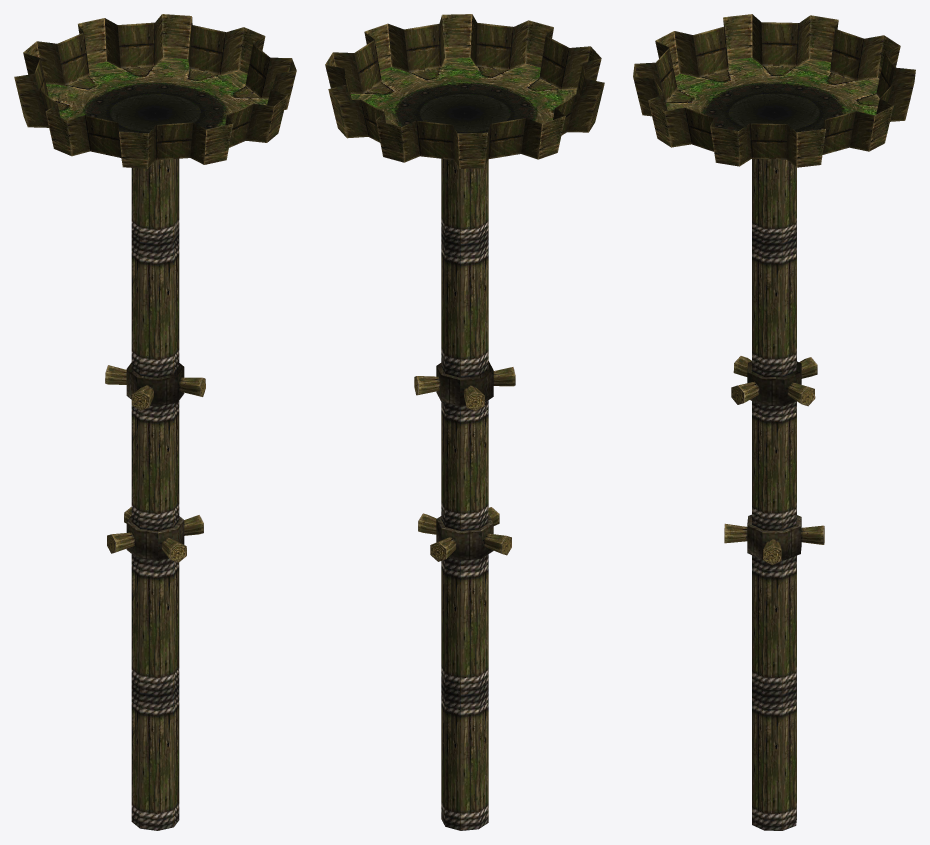
The model's file is shaft.dae.
The picture shows the model from 3 angles, left to right: view 1: azimuth 30°, elevation 25°; view 2: azimuth 150°, elevation 25°; view 3: azimuth 270°, elevation 25°; orthographic projection.
Visible parts, largest first — view 1: shaft; view 2: shaft; view 3: shaft.
Part boxes in pixels (x1,y1,x2,y2): shaft: [14, 14, 296, 830]; shaft: [325, 14, 604, 830]; shaft: [633, 14, 915, 830].
Bounding box in the file's own units: 2.28 × 2.31 × 6.73.
1 material, 1 textured.
